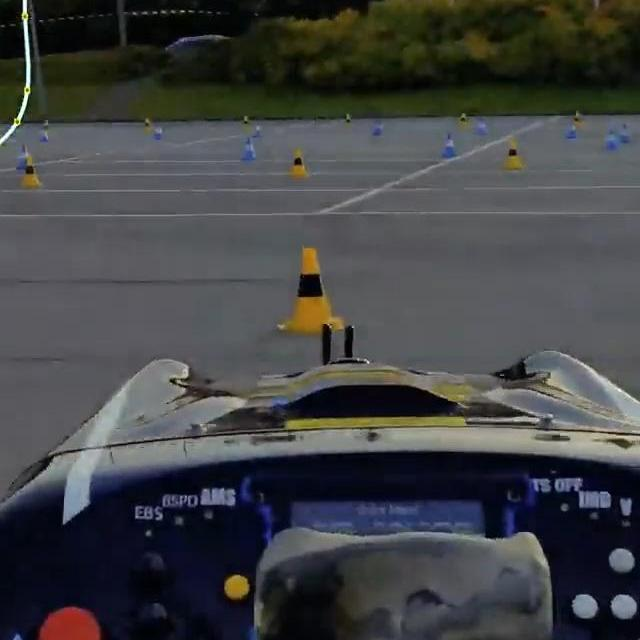Safety Cone: (273, 239, 353, 332), (14, 150, 40, 190), (286, 142, 311, 180), (499, 135, 524, 168), (439, 128, 460, 161), (239, 133, 259, 166), (597, 127, 617, 160)
vehicle: (0, 326, 640, 640)
